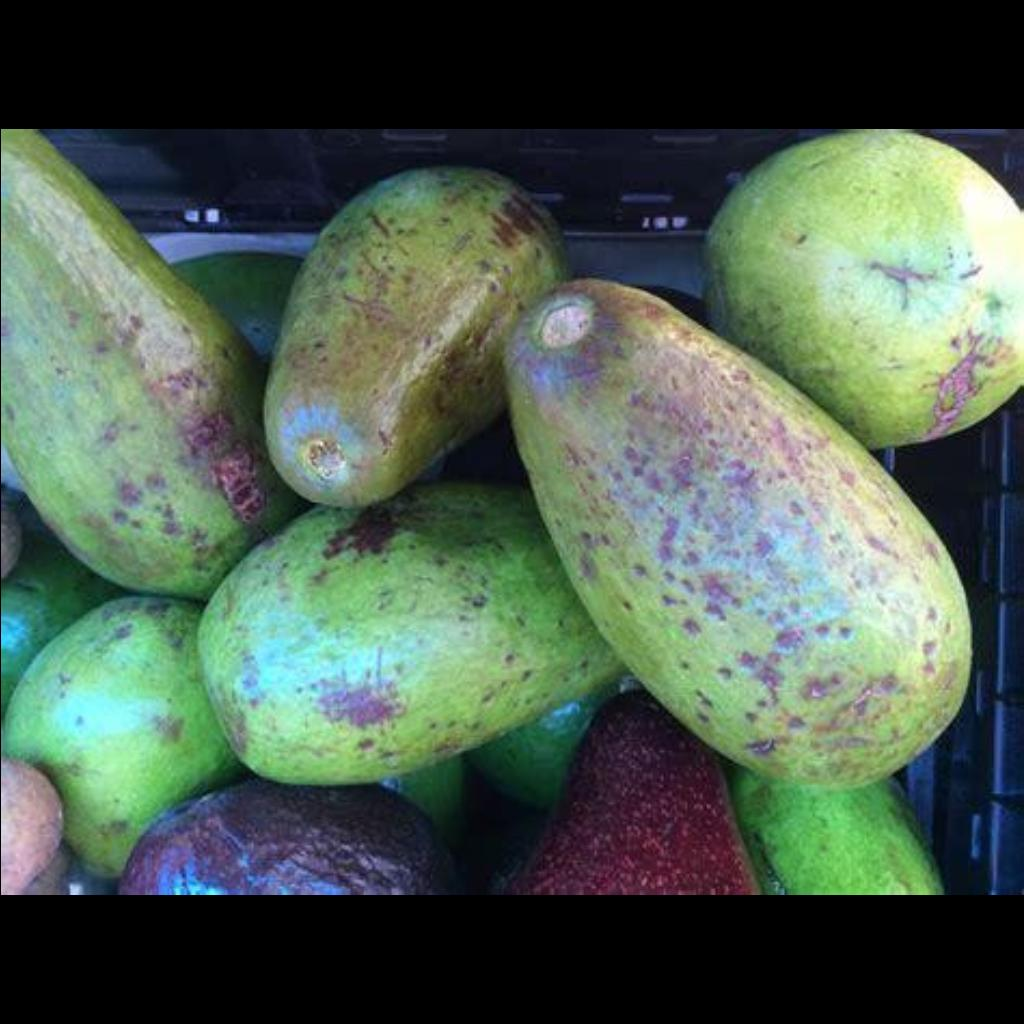Anthracnose: (509, 274, 887, 756), (244, 189, 468, 751)
